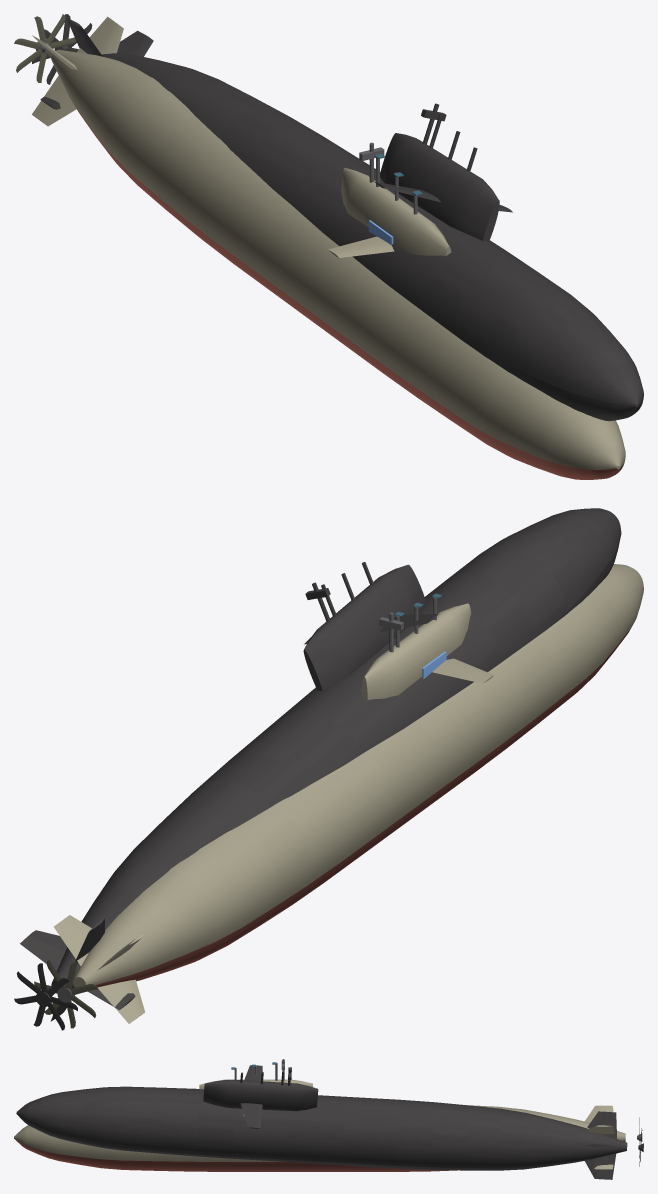
Rendered from submarine__taigei_class.glb.
3 views of the same model, one above another, from view 1: azimuth 30°, elevation 25°; view 2: azimuth 150°, elevation 25°; view 3: azimuth 270°, elevation 25° (orthographic). The views are drawn at different scales.
Parts seen in each view (by area): view 1: Hull_Mesh, Wreck; view 2: Hull_Mesh, Wreck; view 3: Wreck, Hull_Mesh.
Part boxes in pixels (<box>): Hull_Mesh: <box>14,14,625,479</box>; Wreck: <box>32,14,643,421</box>; Hull_Mesh: <box>34,564,643,1028</box>; Wreck: <box>14,508,621,1030</box>; Wreck: <box>16,1065,643,1179</box>; Hull_Mesh: <box>14,1062,642,1171</box>.
Size of what is drawn, in the model's own units: 14.73 by 17.33 by 83.06.
